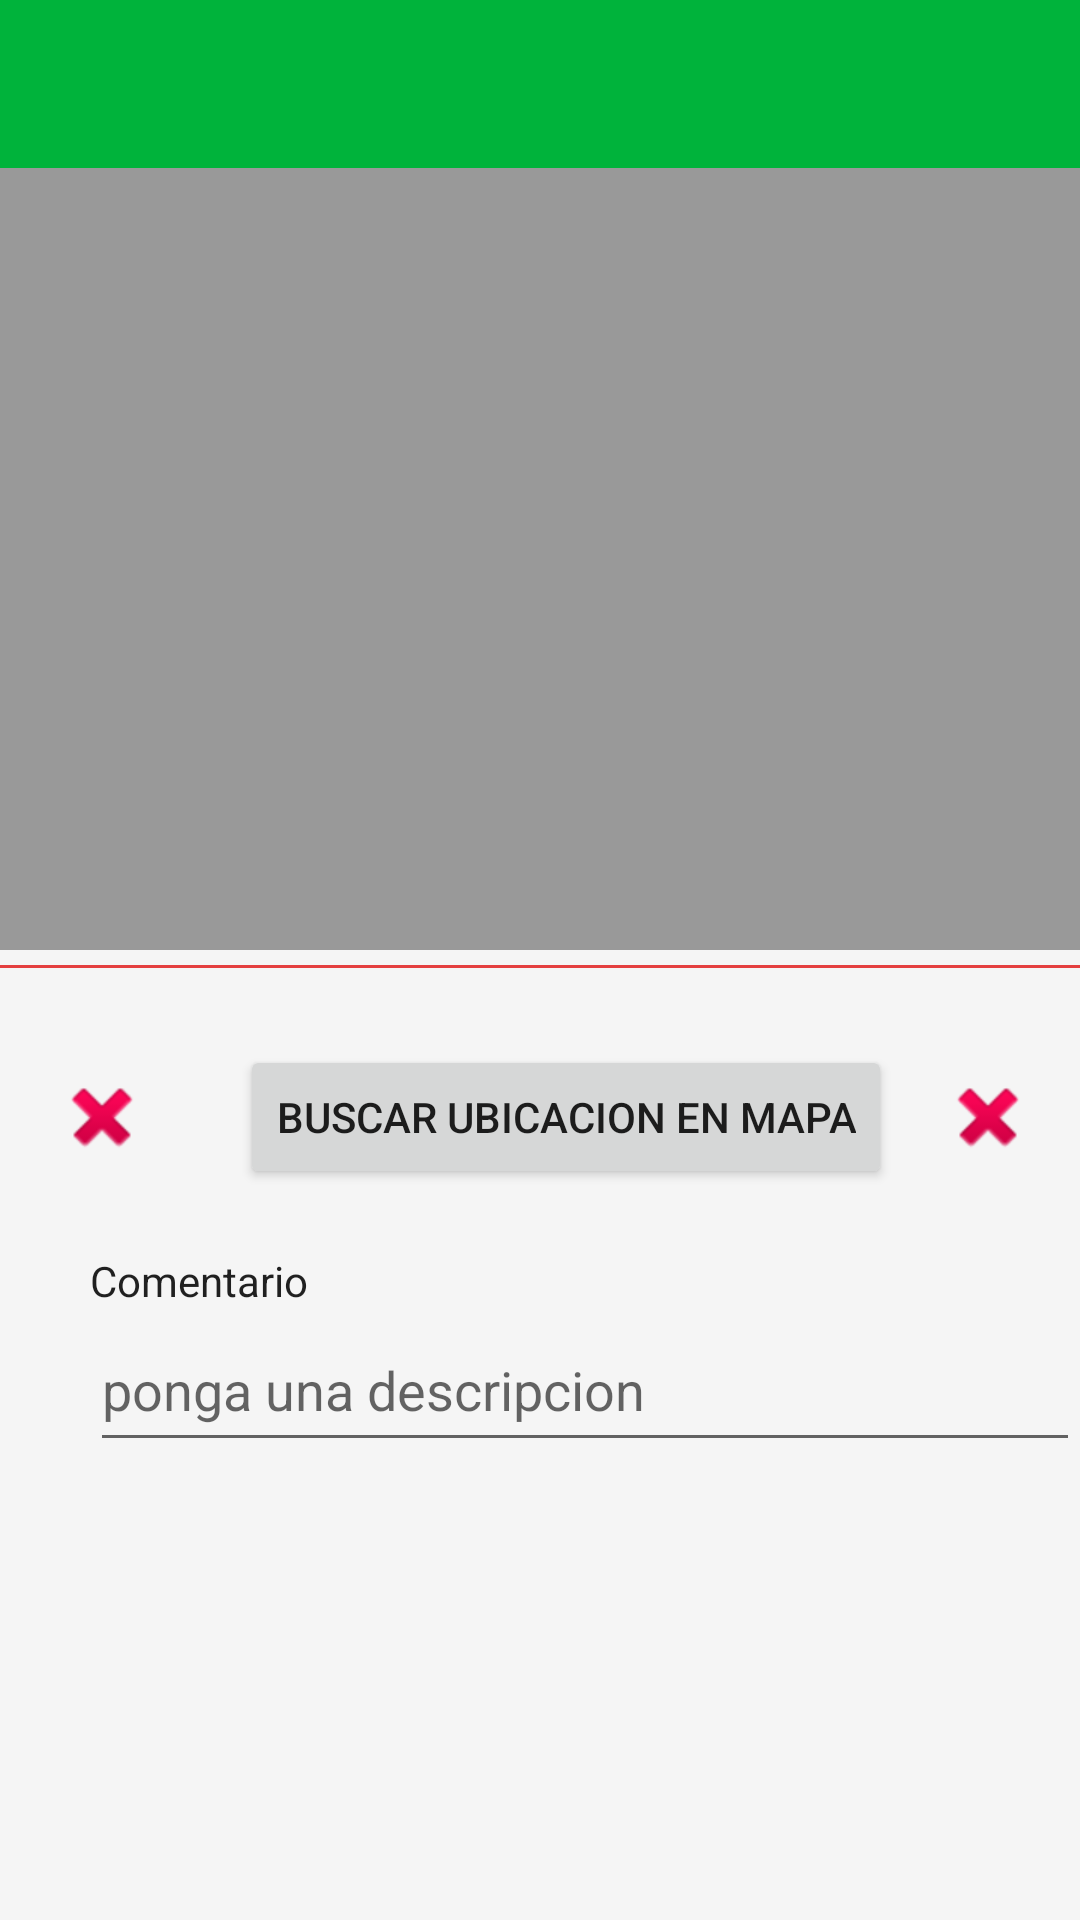

Icons on this 1080×1920 Android screen, each with its box as (x1, y1, x2, y2):
delete: (71, 1088, 133, 1147), (957, 1088, 1019, 1147)
